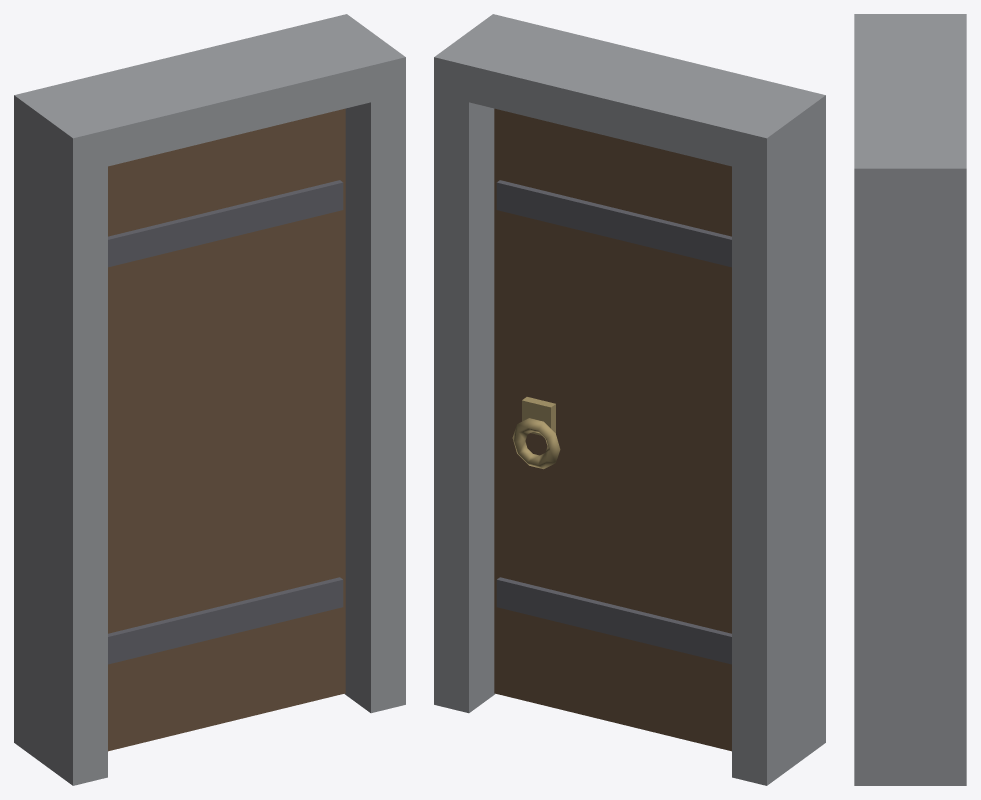
Rendered from ServiceDoor.fbx.
3 views of the same model, side by side, from view 1: azimuth 30°, elevation 25°; view 2: azimuth 150°, elevation 25°; view 3: azimuth 270°, elevation 25° (orthographic). The views are drawn at different scales.
Visible parts, largest first — view 1: LeafL, ServiceDoor; view 2: LeafL, ServiceDoor; view 3: ServiceDoor.
Boxes of the visible parts, bbox=[...] form: LeafL: bbox=[108, 108, 345, 751]; ServiceDoor: bbox=[14, 14, 405, 785]; LeafL: bbox=[494, 108, 731, 751]; ServiceDoor: bbox=[434, 14, 825, 785]; ServiceDoor: bbox=[854, 14, 966, 785].
Bounding box in the file's own units: 1.14 × 2.12 × 0.35.
